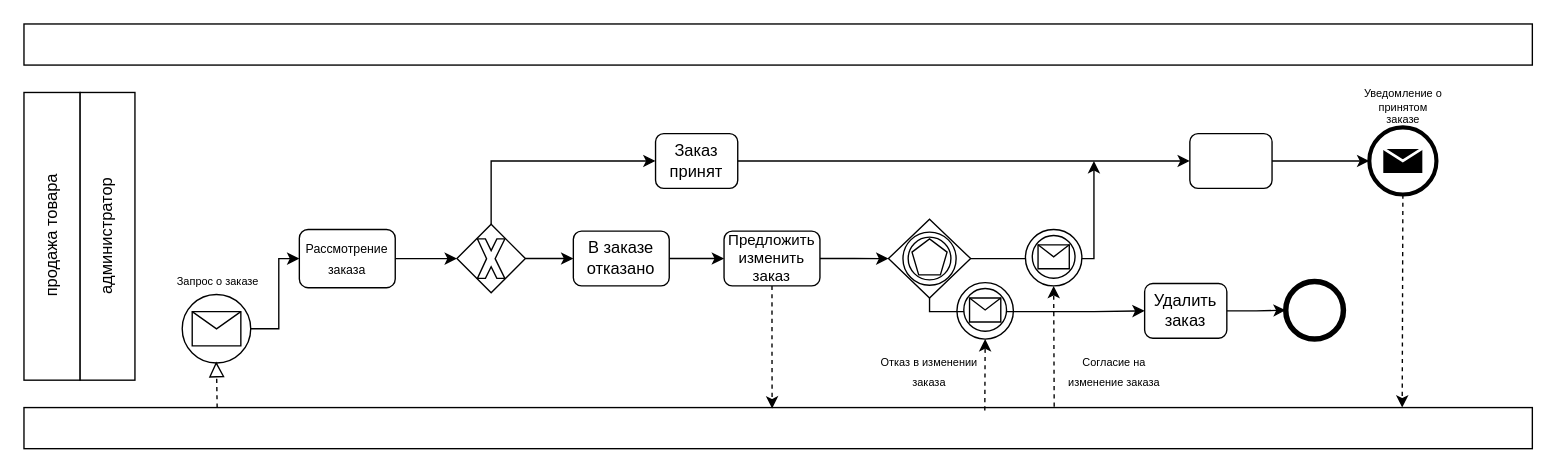
Image size: 1556x473. Some labels were removed from this diagram. Here are the shapes that lost their labels. From the top down, the box of each, then its label:
(23, 23, 1532, 65): Информационная система учёта продаж интернет-магазина
(1188, 132, 1272, 188): Обработать заказ
(23, 406, 1532, 449): покупатель
